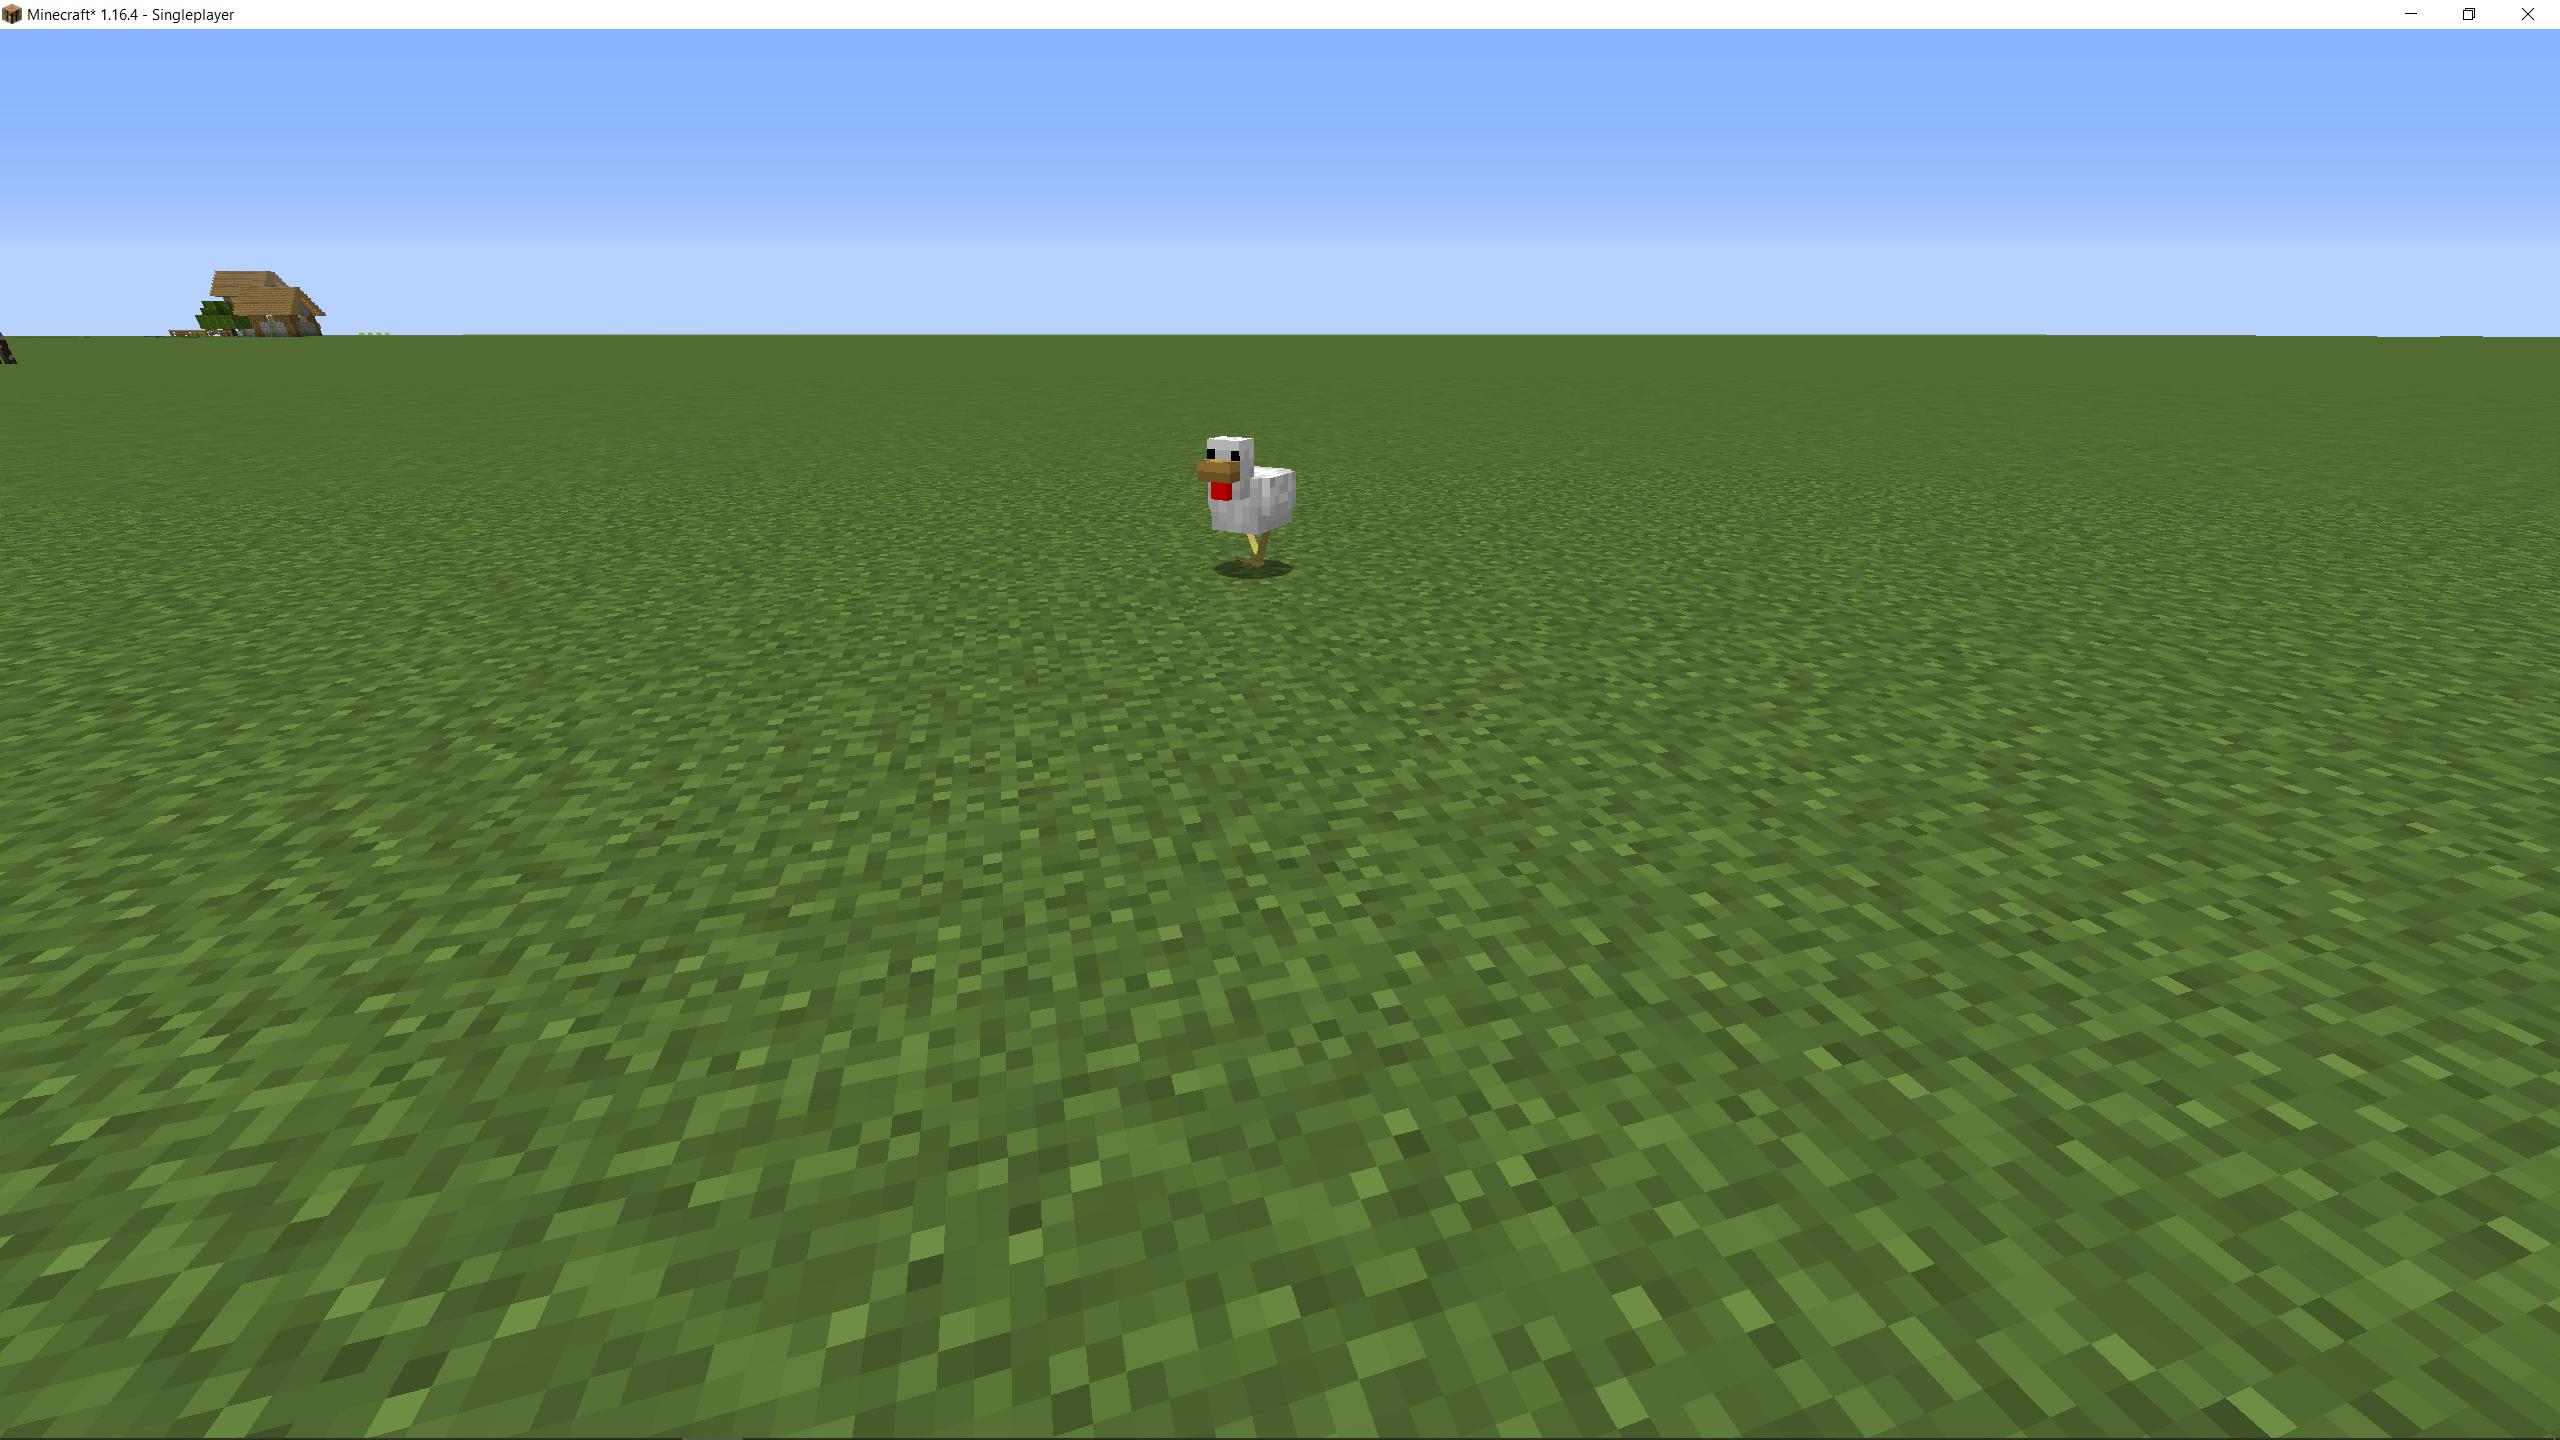chicken: (1194, 427, 1305, 577)
